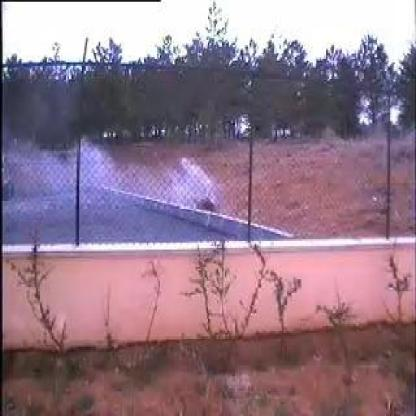-: (46, 127, 227, 242)
